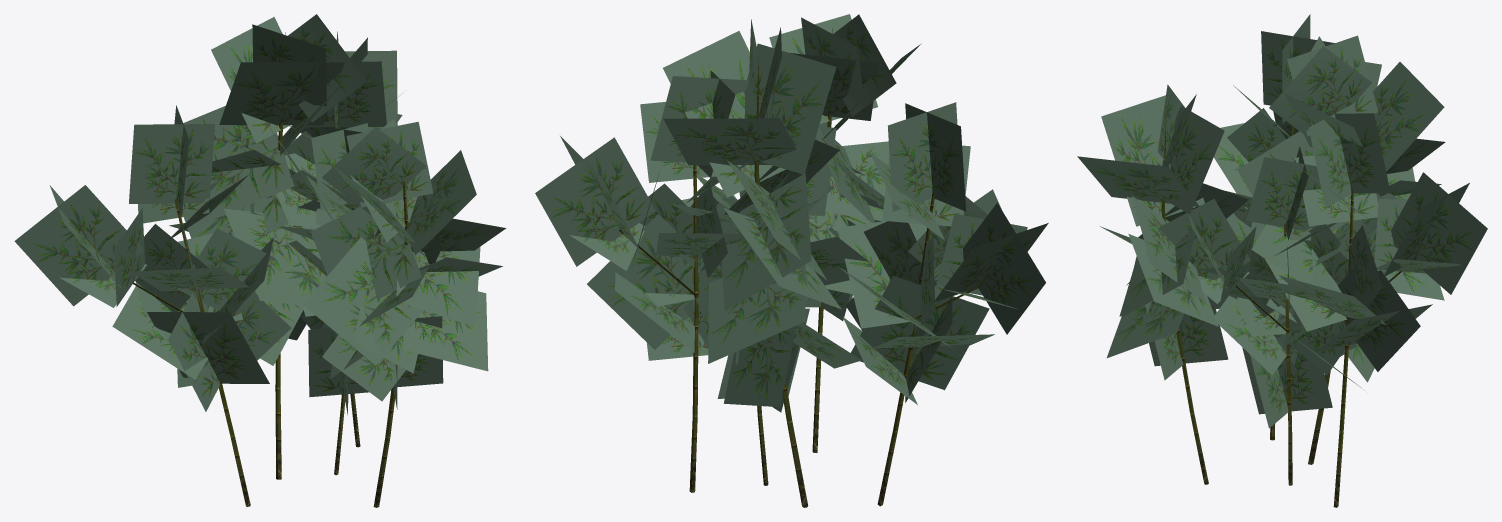
Rendered from bamboo.obj.
The picture shows the model from 3 angles, left to right: view 1: azimuth 30°, elevation 25°; view 2: azimuth 150°, elevation 25°; view 3: azimuth 270°, elevation 25°; orthographic projection. The views are drawn at different scales.
Visible parts, largest first — view 1: Mesh45 G_107248b0_obj Group1 Model, Mesh40 G_107248b0_obj Group1 Model, Mesh27 G_107248b0_obj Group1 Model, Mesh4 G_107248b0_obj Group1 Model, Mesh16 G_107248b0_obj Group1 Model, Mesh2 G_107248b0_obj Group1 Model, Mesh22 G_107248b0_obj Group1 Model, Mesh20 G_107248b0_obj Group1 Model, Mesh85 G_107248b0_obj Group1 Model, Mesh28 G_107248b0_obj Group1 Model, Mesh29 G_107248b0_obj Group1 Model, Mesh30 G_107248b0_obj Group1 Model (+40 smaller); view 2: Mesh78 G_107248b0_obj Group1 Model, Mesh4 G_107248b0_obj Group1 Model, Mesh13 G_107248b0_obj Group1 Model, Mesh84 G_107248b0_obj Group1 Model, Mesh83 G_107248b0_obj Group1 Model, Mesh14 G_107248b0_obj Group1 Model, Mesh12 G_107248b0_obj Group1 Model, Mesh45 G_107248b0_obj Group1 Model, Mesh10 G_107248b0_obj Group1 Model, Mesh6 G_107248b0_obj Group1 Model, Mesh41 G_107248b0_obj Group1 Model, Mesh49 G_107248b0_obj Group1 Model (+39 smaller); view 3: Mesh78 G_107248b0_obj Group1 Model, Mesh14 G_107248b0_obj Group1 Model, Mesh3 G_107248b0_obj Group1 Model, Mesh26 G_107248b0_obj Group1 Model, Mesh57 G_107248b0_obj Group1 Model, Mesh83 G_107248b0_obj Group1 Model, Mesh61 G_107248b0_obj Group1 Model, Mesh30 G_107248b0_obj Group1 Model, Mesh21 G_107248b0_obj Group1 Model, Mesh73 G_107248b0_obj Group1 Model, Mesh88 G_107248b0_obj Group1 Model, Mesh74 G_107248b0_obj Group1 Model (+44 smaller).
Part boxes in pixels (x1,y1,x2,y2): Mesh45 G_107248b0_obj Group1 Model: [14, 185, 144, 306]; Mesh40 G_107248b0_obj Group1 Model: [129, 124, 214, 203]; Mesh27 G_107248b0_obj Group1 Model: [303, 237, 433, 365]; Mesh4 G_107248b0_obj Group1 Model: [219, 62, 344, 125]; Mesh16 G_107248b0_obj Group1 Model: [183, 105, 294, 225]; Mesh2 G_107248b0_obj Group1 Model: [224, 208, 326, 305]; Mesh22 G_107248b0_obj Group1 Model: [310, 207, 421, 299]; Mesh20 G_107248b0_obj Group1 Model: [322, 127, 426, 215]; Mesh85 G_107248b0_obj Group1 Model: [147, 312, 269, 383]; Mesh28 G_107248b0_obj Group1 Model: [403, 291, 488, 371]; Mesh29 G_107248b0_obj Group1 Model: [396, 227, 480, 326]; Mesh30 G_107248b0_obj Group1 Model: [406, 150, 476, 255]; Mesh78 G_107248b0_obj Group1 Model: [535, 137, 655, 266]; Mesh4 G_107248b0_obj Group1 Model: [744, 43, 836, 174]; Mesh13 G_107248b0_obj Group1 Model: [720, 173, 811, 310]; Mesh84 G_107248b0_obj Group1 Model: [851, 275, 989, 390]; Mesh83 G_107248b0_obj Group1 Model: [587, 214, 700, 349]; Mesh14 G_107248b0_obj Group1 Model: [663, 118, 796, 165]; Mesh12 G_107248b0_obj Group1 Model: [708, 264, 805, 363]; Mesh45 G_107248b0_obj Group1 Model: [963, 203, 1045, 334]; Mesh10 G_107248b0_obj Group1 Model: [663, 31, 785, 197]; Mesh6 G_107248b0_obj Group1 Model: [723, 325, 796, 406]; Mesh41 G_107248b0_obj Group1 Model: [888, 102, 957, 211]; Mesh49 G_107248b0_obj Group1 Model: [837, 221, 926, 328]; Mesh78 G_107248b0_obj Group1 Model: [1391, 172, 1487, 294]; Mesh14 G_107248b0_obj Group1 Model: [1373, 62, 1444, 171]; Mesh3 G_107248b0_obj Group1 Model: [1269, 46, 1371, 139]; Mesh26 G_107248b0_obj Group1 Model: [1101, 95, 1204, 226]; Mesh57 G_107248b0_obj Group1 Model: [1246, 157, 1321, 230]; Mesh83 G_107248b0_obj Group1 Model: [1337, 265, 1420, 371]; Mesh61 G_107248b0_obj Group1 Model: [1158, 199, 1250, 279]; Mesh30 G_107248b0_obj Group1 Model: [1077, 156, 1199, 206]; Mesh21 G_107248b0_obj Group1 Model: [1162, 106, 1224, 214]; Mesh73 G_107248b0_obj Group1 Model: [1313, 113, 1390, 193]; Mesh88 G_107248b0_obj Group1 Model: [1242, 334, 1332, 414]; Mesh74 G_107248b0_obj Group1 Model: [1308, 103, 1356, 207].
Size of the model in its own units: 10.54 by 10.84 by 9.19.
Materials: 2 (2 with a texture image).
